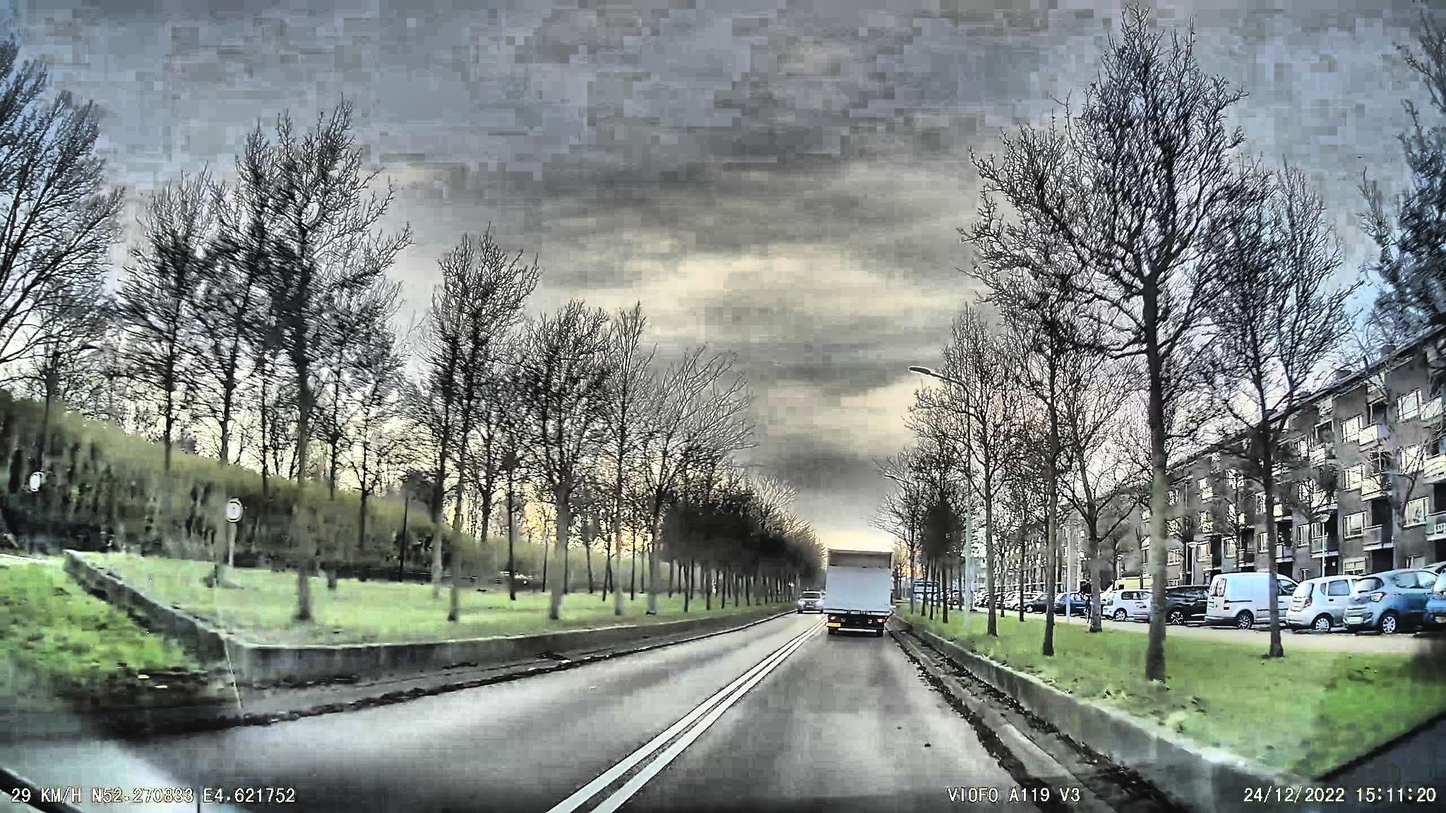Roads: (0, 614, 1041, 813)
